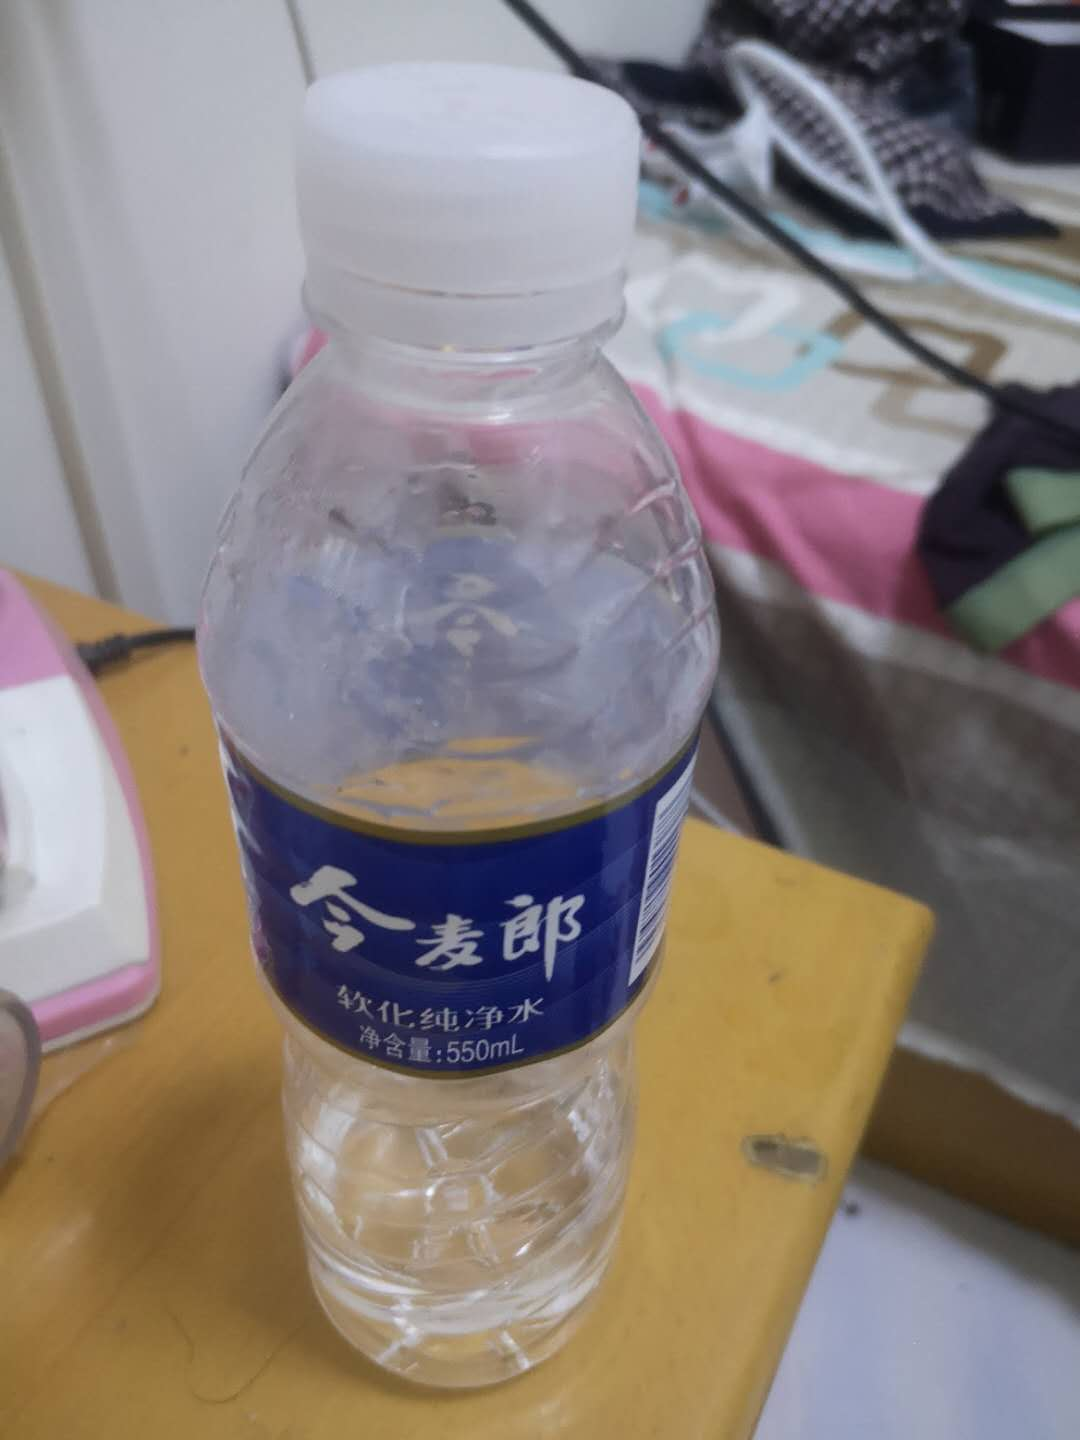农夫山泉: (285, 26, 748, 1405)
